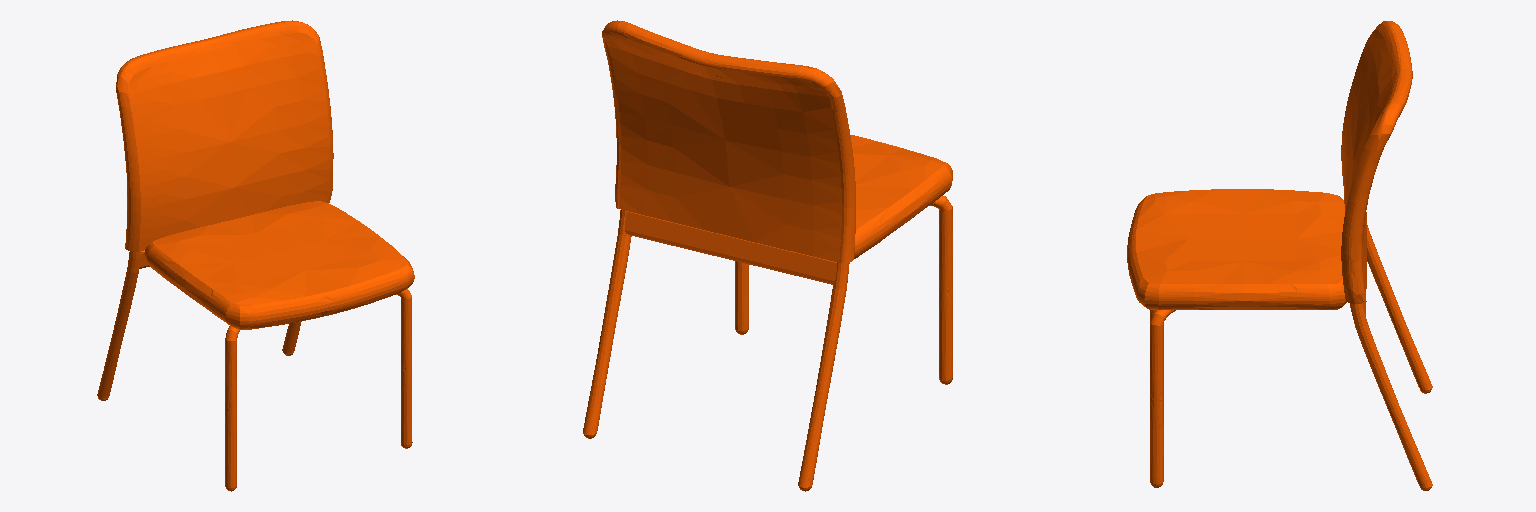
The robot description file, URDF, robot "OfficeSideChair_8e76d0002b592ef91663a74ccd2338":
<?xml version="1.0" ?>
<robot name="OfficeSideChair_8e76d0002b592ef91663a74ccd2338">
   <material name="obj_color">
      <color rgba="1.0 0.423529411765 0.0392156862745 1.0"/>
   </material>
   <link name="top">
      <inertial>
         <origin rpy="0.001228776256761669 0.001858189537103162 0.001948669467534549" xyz="0.0001507473325139466 -0.00059816115087061 -0.01788651121767415"/>
         <mass value="0.9517069476924913"/>
         <inertia ixx="0.001948405089693424" ixy="-6.324349311989789e-06" ixz="-5.478460317796298e-06" iyy="0.00178936345804733" iyz="-0.0001966851950167285" izz="0.001297866713658625"/>
      </inertial>
      <visual>
         <origin rpy="0 0 0" xyz="0 0 0"/>
         <geometry>
            <mesh filename="top_watertight_tiny.stl" scale="1 1 1"/>
         </geometry>
         <material name="obj_color"/>
      </visual>
      <collision>
         <origin rpy="0 0 0" xyz="0 0 0"/>
         <geometry>
            <mesh filename="top_watertight_tiny.obj" scale="1 1 1"/>
         </geometry>
      </collision>
   </link>
   <link name="bottom">
      <inertial>
         <origin rpy="1.633333333199431e-08 1.633333333199431e-08 1.633333333362855e-08" xyz="0.3464080000000008 0.3464080000000008 0.3464080000000008"/>
         <mass value="0.0009800000000000017"/>
         <inertia ixx="1.633333333253906e-08" ixy="5.447480642029219e-19" ixz="5.447480642029219e-19" iyy="1.633333333253906e-08" iyz="5.447480642029219e-19" izz="1.633333333253906e-08"/>
      </inertial>
      <visual>
         <origin rpy="0 0 0" xyz="0 0 0"/>
         <geometry>
            <mesh filename="bottom_watertight_tiny.stl" scale="1 1 1"/>
         </geometry>
         <material name="obj_color"/>
      </visual>
   </link>
   <joint name="rotation" type="revolute">
      <origin xyz="0 0 0"/>
      <axis xyz="0 0 -1"/>
      <parent link="bottom"/>
      <child link="top"/>
      <dynamics damping="1.0" friction="1.0"/>
      <limit effort="0.1" velocity="0.1" lower="0" upper="0.001"/>
   </joint>
</robot>

--- What the picture shows (computed from the rendered views, not written in the file) ---
3 views of the same robot in one strip: view 1: azimuth 30°, elevation 25°; view 2: azimuth 150°, elevation 25°; view 3: azimuth 270°, elevation 25° (orthographic).
Model OfficeSideChair_8e76d0002b592ef91663a74ccd2338 with 2 links and 1 joints (1 revolute), rooted at bottom, posed every joint at zero.
Visible links, largest first — view 1: top; view 2: top; view 3: top.
Link boxes in pixels (x1,y1,x2,y2): top: (97,20,414,491); top: (583,20,952,491); top: (1127,21,1432,490).
Size in the robot's own frame: 0.0894 by 0.1072 by 0.1461 metres.
Meshes: 2 distinct files referenced, 1 mesh visuals loaded (1 binary STL); not drawn: 1 (reference not matched to a file when rendering).
